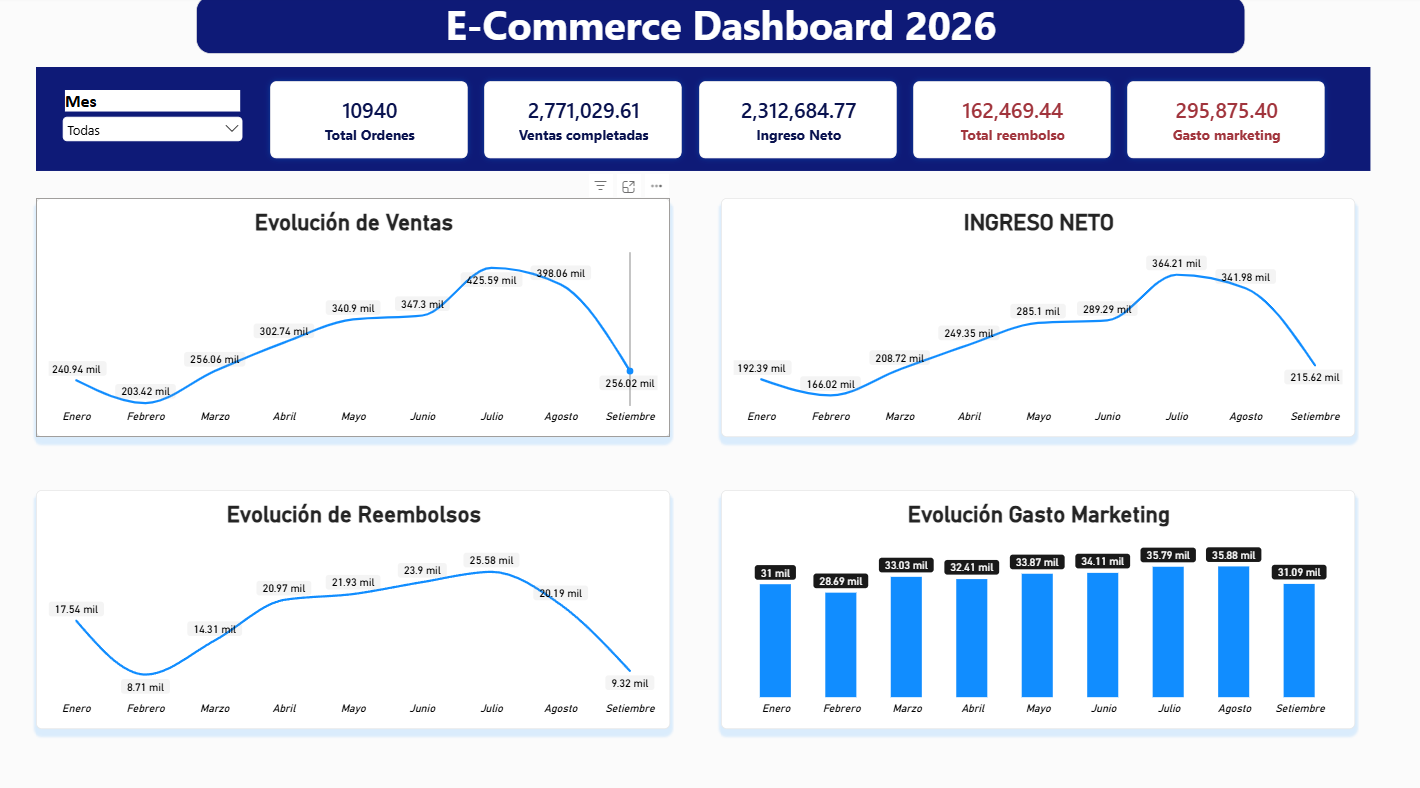

This screenshot's page, from the dashboard's own definition file:
{"tool":"powerbi","page":{"name":"dato general","canvas":[1920,1080],"ordinal":0},"visuals":[{"type":"lineChart","title":"Evolución de Ventas","fields":{"Category":["Calendario.Date.Variación.Jerarquía de fechas.Mes"],"Y":["medida calculada.Ventas completadas"]},"box":[52.1,271.4,854.2,322],"z":0},{"type":"lineChart","title":"Evolución de Reembolsos","fields":{"Category":["Calendario.Date.Variación.Jerarquía de fechas.Mes"],"Y":["medida calculada.Total reembolso"]},"box":[52.1,665.8,854,322],"z":1000},{"type":"clusteredColumnChart","title":"Evolución Gasto Marketing","fields":{"Category":["Calendario.Date.Variación.Jerarquía de fechas.Mes"],"Y":["medida calculada.total_gasto_marketing"]},"box":[975,665.8,854,322],"z":2000},{"type":"lineChart","title":"INGRESO NETO","fields":{"Category":["Calendario.Date.Variación.Jerarquía de fechas.Mes"],"Y":["medida calculada.Ingreso_NETO"]},"box":[975,271.4,854,322],"z":3000},{"type":"textbox","box":[267.8,0,1413.2,78.3],"z":4000},{"type":"textbox","box":[52.1,96.2,1796.9,140.4],"z":5000},{"type":"slicer","fields":{"Values":["Calendario.Date.Variación.Jerarquía de fechas.Mes"]},"box":[83.6,126.2,252.4,82],"z":6000},{"type":"cardVisual","fields":{"Data":["CountNonNull(ordenes.order_id)"]},"box":[356.5,104.1,288.7,126.2],"z":7000},{"type":"cardVisual","fields":{"Data":["medida calculada.Total reembolso"]},"box":[1222.7,104.1,288.7,126.2],"z":8000},{"type":"cardVisual","fields":{"Data":["medida calculada.Ventas completadas"]},"box":[645.3,104.1,288,126],"z":9000},{"type":"cardVisual","fields":{"Data":["medida calculada.Ingreso_NETO"]},"box":[934,104.1,288.7,126.2],"z":10000},{"type":"cardVisual","fields":{"Data":["medida calculada.total_gasto_marketing"]},"box":[1511.4,104.1,288.7,126.2],"z":11000}]}

Visuals, with their boxes in screenshot pixels (x1, y1, x2, y2), scaled from the page's 1920x1080 canvas onto the 1420x788 screenshot:
"Evolución de Ventas" lineChart: detection(39, 198, 670, 433)
"Evolución de Reembolsos" lineChart: detection(39, 486, 670, 721)
"Evolución Gasto Marketing" clusteredColumnChart: detection(721, 486, 1353, 721)
"INGRESO NETO" lineChart: detection(721, 198, 1353, 433)
textbox: detection(198, 0, 1243, 57)
textbox: detection(39, 70, 1367, 173)
slicer - Calendario.Date.Variación.Jerarquía de fechas.Mes: detection(62, 92, 248, 152)
cardVisual - CountNonNull(ordenes.order_id): detection(264, 76, 477, 168)
cardVisual - medida calculada.Total reembolso: detection(904, 76, 1118, 168)
cardVisual - medida calculada.Ventas completadas: detection(477, 76, 690, 168)
cardVisual - medida calculada.Ingreso_NETO: detection(691, 76, 904, 168)
cardVisual - medida calculada.total_gasto_marketing: detection(1118, 76, 1331, 168)
